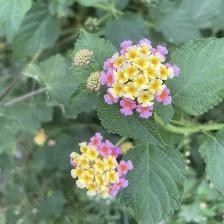common lanthana: (71, 129, 136, 202)
